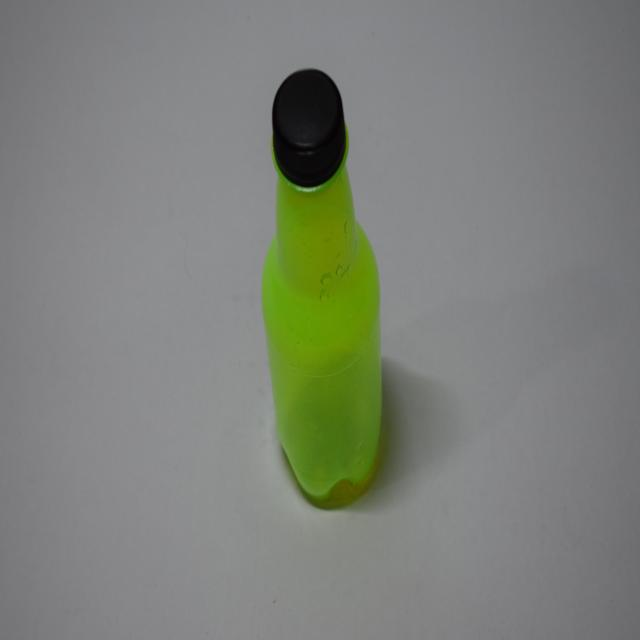bottle: (263, 69, 393, 510)
